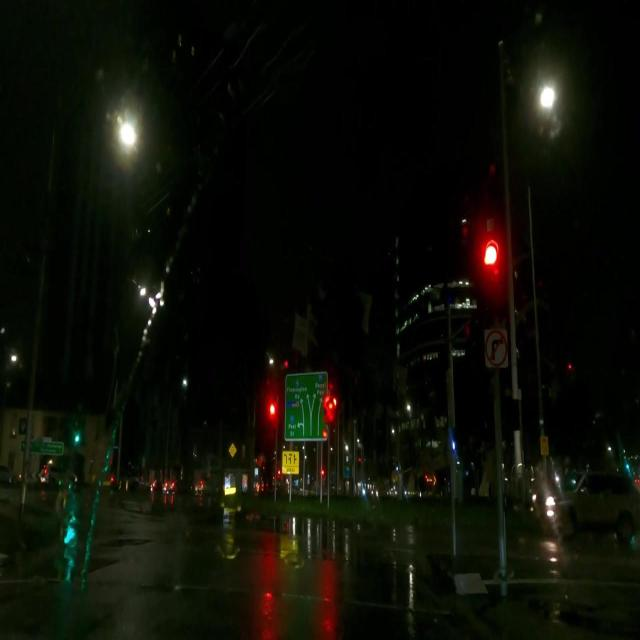Car: (532, 471, 638, 534)
